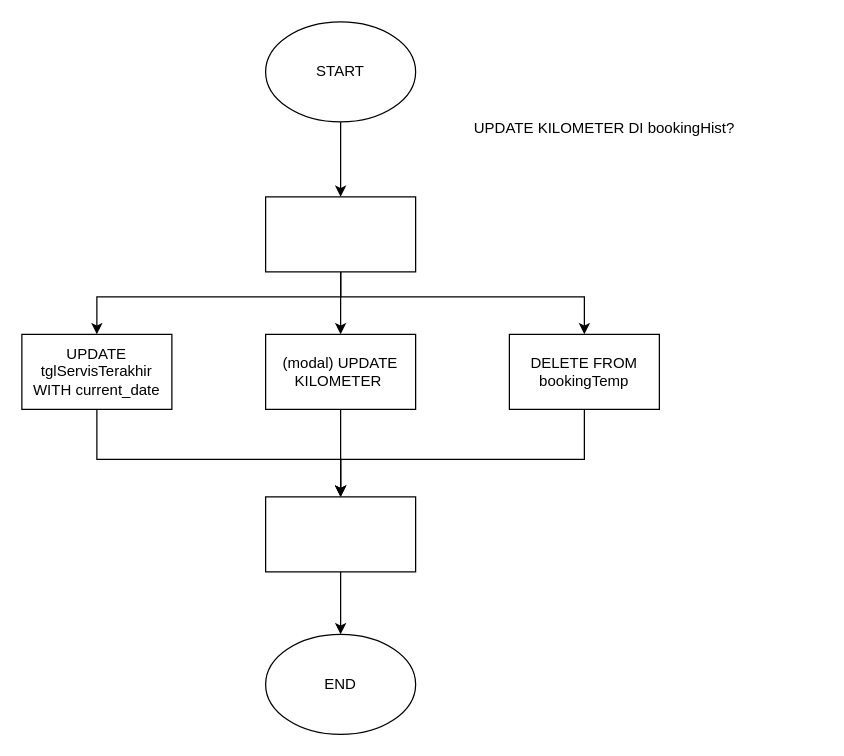
Image size: 844x756. Some labels were removed from this diagram. Each missing label, with the centre of its shape:
"KLIK 'DONE'" belongs at point 340,234.
"Page Reload" belongs at point 340,534.
